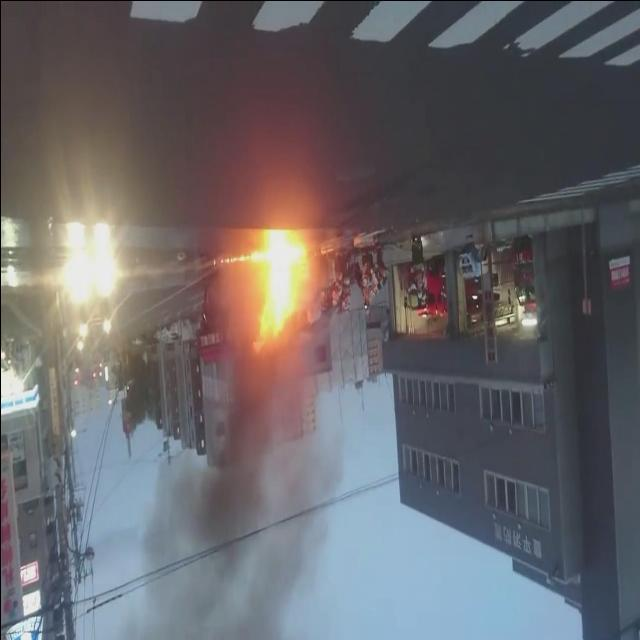Fire: (215, 246, 313, 346)
